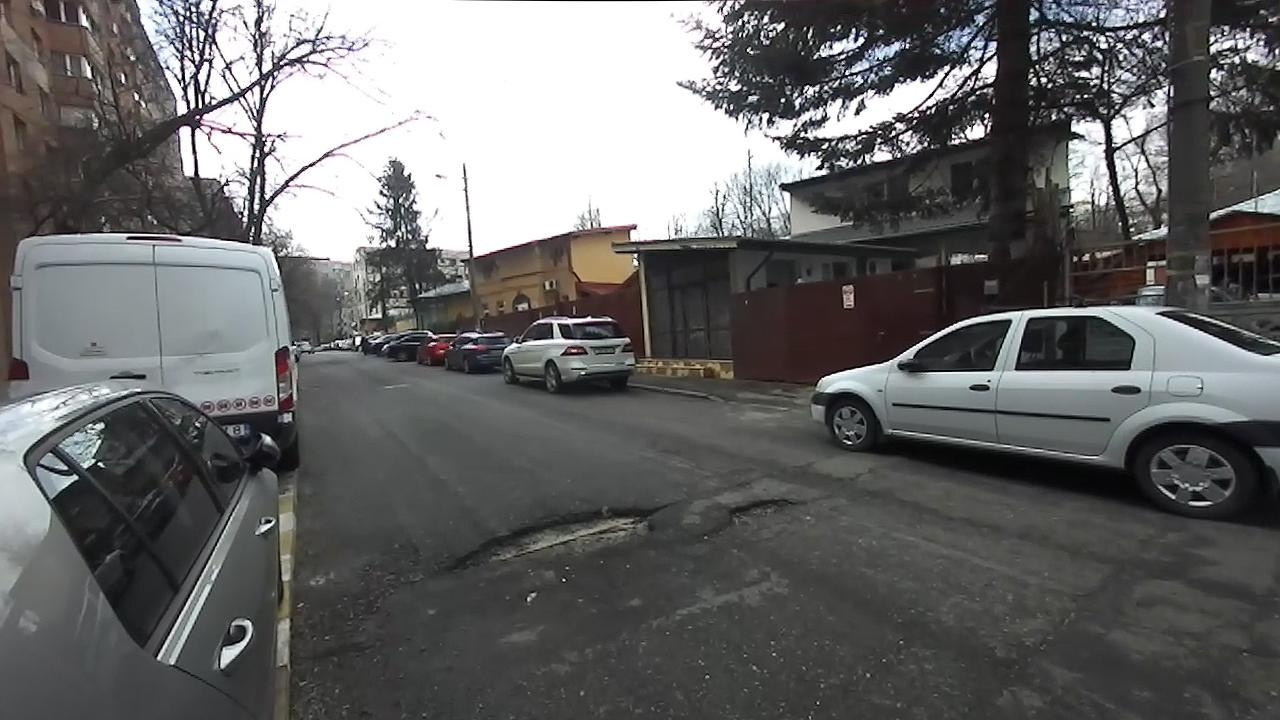pothole: (431, 499, 672, 578), (703, 494, 812, 544)
